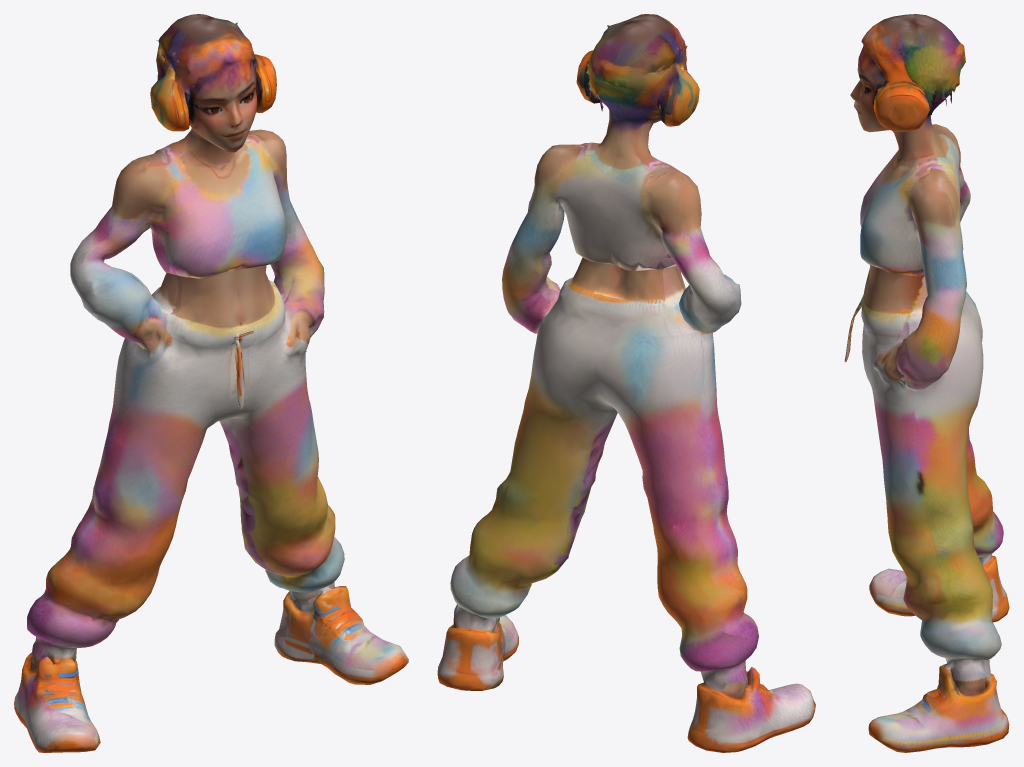
Rendered from Vibrant_Groove_0529054852_texture.glb.
3 renders of one model, left to right at view 1: azimuth 30°, elevation 25°; view 2: azimuth 150°, elevation 25°; view 3: azimuth 270°, elevation 25°, orthographic. The views are drawn at different scales.
Visible parts, largest first — view 1: Mesh_0; view 2: Mesh_0; view 3: Mesh_0.
Part boxes in pixels (left/top/right/bottom): Mesh_0: left=14, top=14, right=408, bottom=752; Mesh_0: left=437, top=14, right=815, bottom=752; Mesh_0: left=844, top=14, right=1009, bottom=752.
Size of the model in its own units: 1.06 by 1.91 by 0.4396.
Materials: 1 (1 with a texture image).
